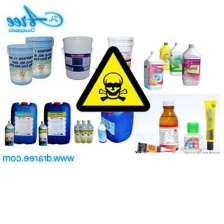insecticide: (61, 31, 98, 83), (24, 33, 59, 81), (104, 30, 137, 77), (98, 103, 134, 144), (8, 99, 39, 146), (43, 99, 71, 149), (6, 40, 36, 86), (158, 98, 181, 152), (180, 42, 203, 87), (142, 48, 166, 91), (203, 94, 219, 152), (168, 38, 188, 76), (182, 120, 203, 153), (135, 141, 176, 156), (157, 40, 175, 74), (37, 120, 49, 148), (4, 118, 14, 147), (78, 119, 89, 145), (84, 119, 95, 144), (97, 121, 108, 143), (73, 119, 82, 145)
